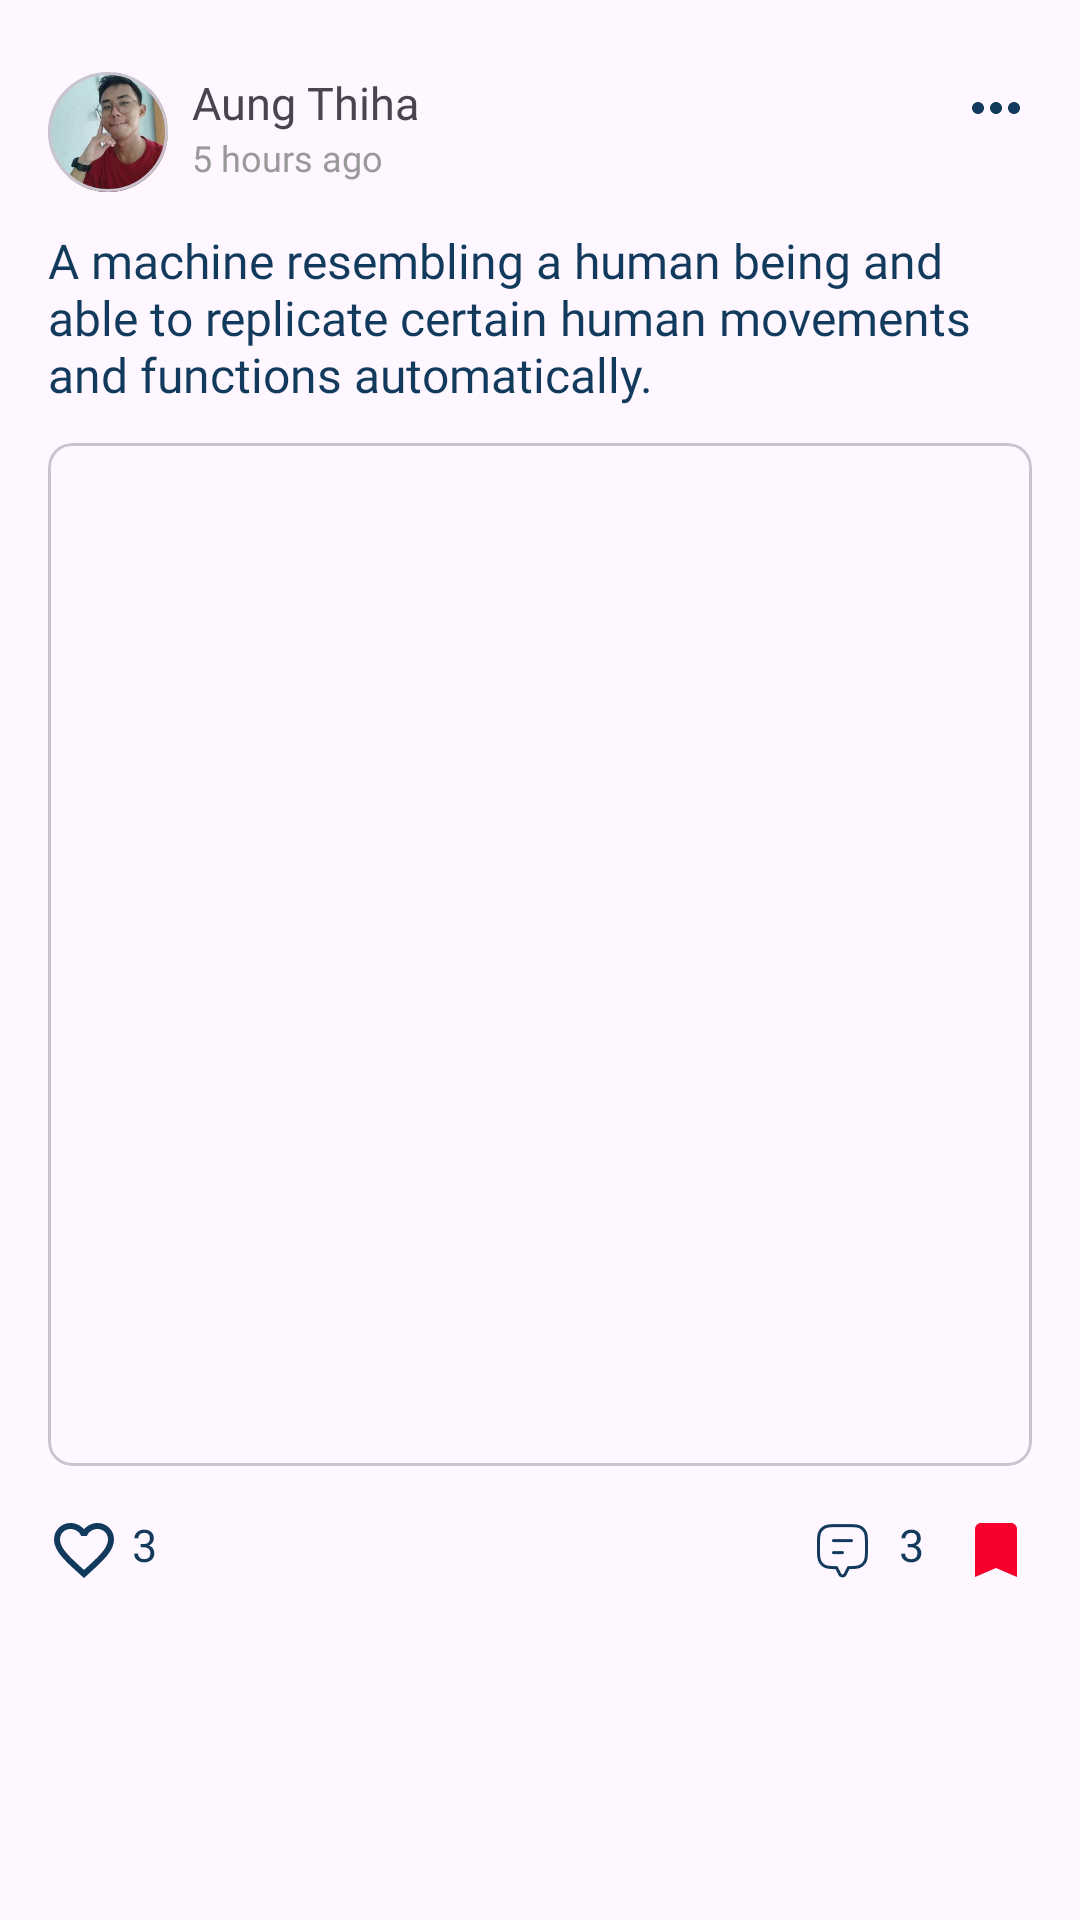

Where to tap for icons on this 1080px×1920px app screen, as (x=x, y=y):
ath profile: (x=108, y=132)
bookmark: (x=996, y=1550)
favorite border: (x=84, y=1550)
more horiz: (x=996, y=108)
post comment: (x=842, y=1551)
